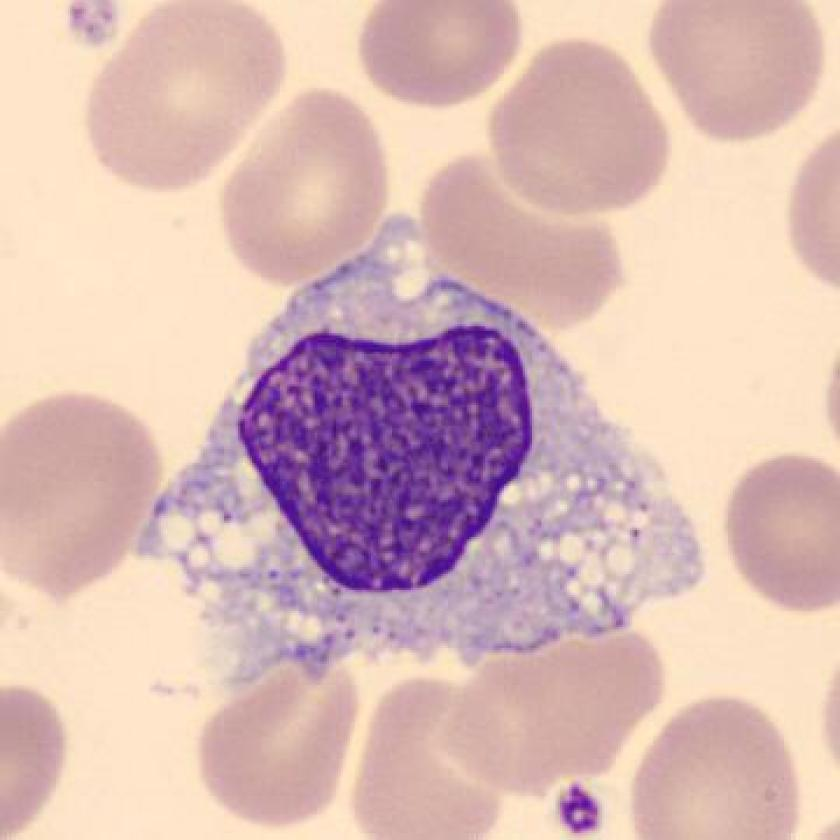monocyte: (118, 193, 724, 693)
